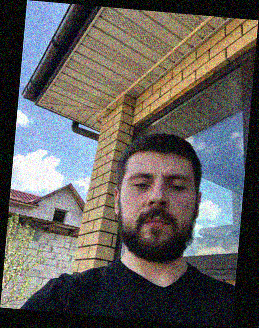without_mask: (120, 166, 194, 262)
